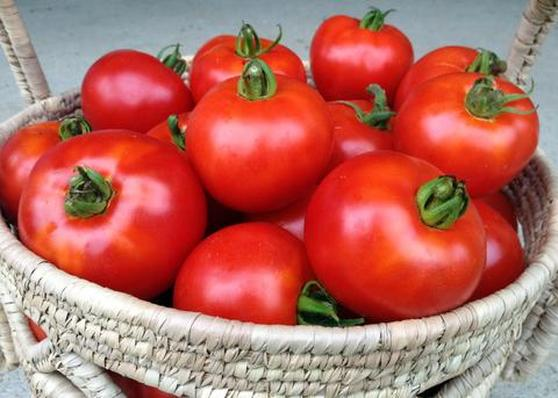tomato: (29, 126, 208, 292), (305, 154, 484, 314), (181, 75, 332, 213), (399, 75, 542, 184), (178, 222, 308, 325), (314, 11, 417, 104), (81, 50, 195, 132)
